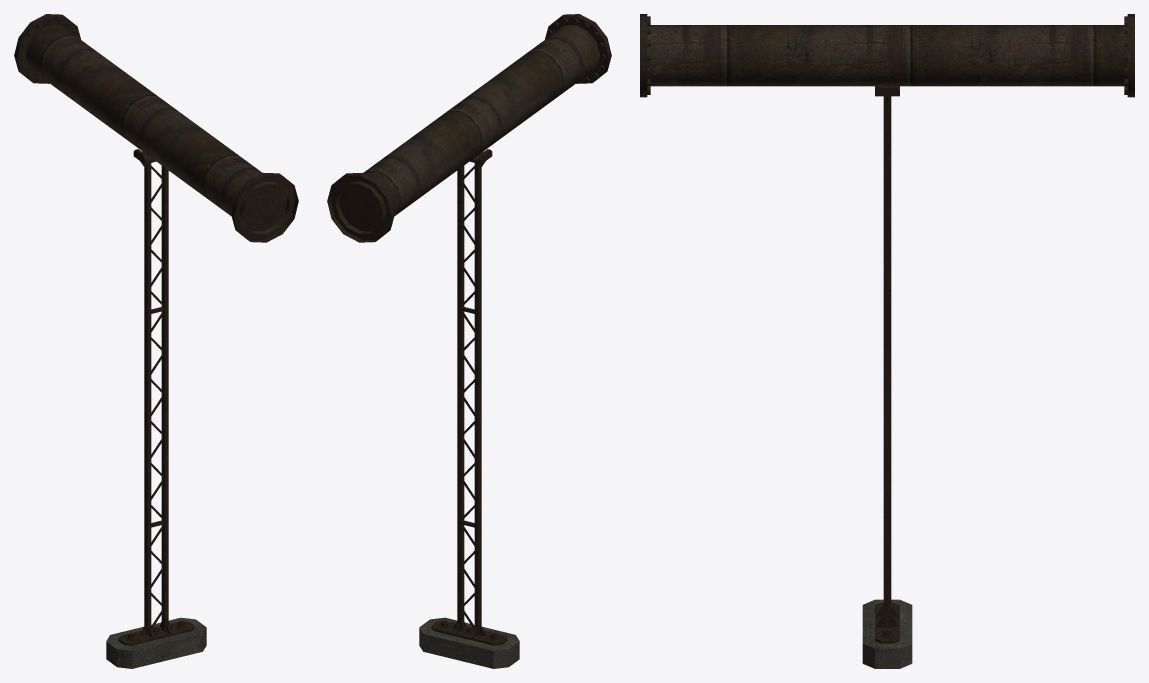
The model's file is pipe_dx_1.obj.
3 views of the same model, side by side, from view 1: azimuth 30°, elevation 25°; view 2: azimuth 150°, elevation 25°; view 3: azimuth 270°, elevation 25° (orthographic). The views are drawn at different scales.
Parts seen in each view (by area): view 1: pipe_dx_1; view 2: pipe_dx_1; view 3: pipe_dx_1.
Part boxes in pixels (x1,y1,x2,y2): pipe_dx_1: (14, 14, 298, 668); pipe_dx_1: (327, 14, 611, 668); pipe_dx_1: (640, 14, 1134, 668).
Bounding box in the file's own units: 0.94 × 5.59 × 4.
